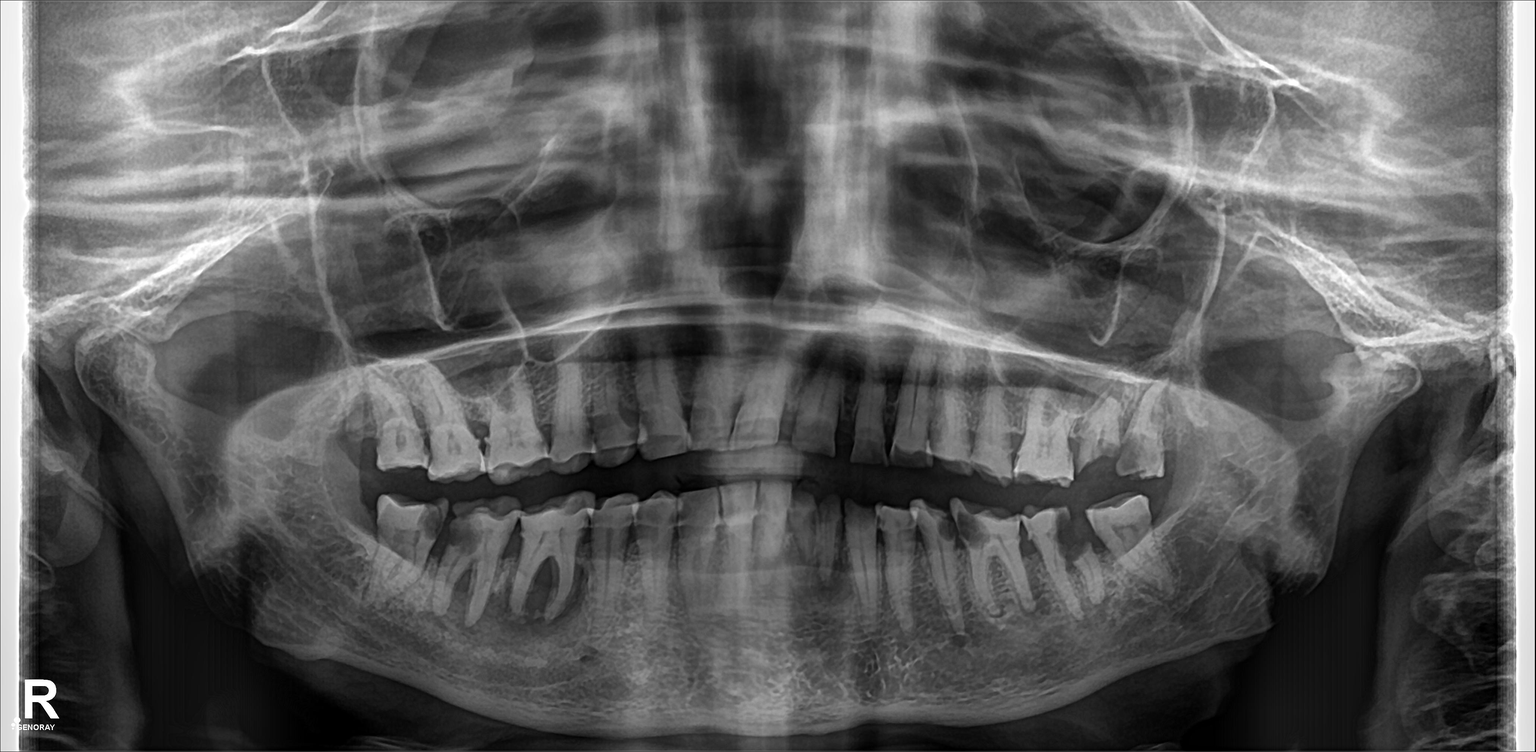Dental Caries: (425, 506, 487, 551), (935, 516, 995, 551), (1054, 521, 1097, 562), (1117, 434, 1150, 475)
Missing Tooth: (346, 478, 378, 563)
Periapical Lesion: (441, 564, 584, 627)
Retained Root: (339, 380, 384, 463)
Tooth Fracture: (1075, 402, 1114, 487)
